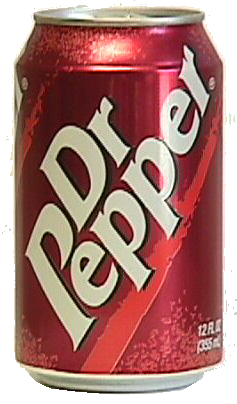grozi_59: (11, 6, 236, 395)
